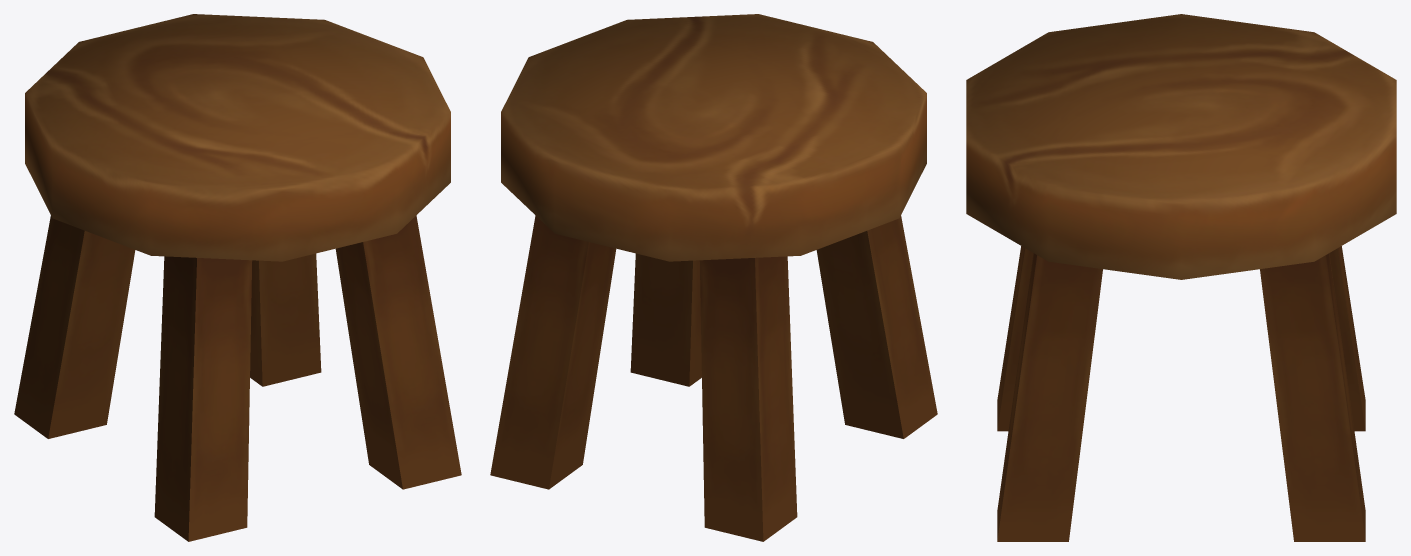
The model's file is Chair_rounded.fbx.
3 views of the same model, side by side, from view 1: azimuth 30°, elevation 25°; view 2: azimuth 150°, elevation 25°; view 3: azimuth 270°, elevation 25° (orthographic). The views are drawn at different scales.
Visible parts, largest first — view 1: polySurface356; view 2: polySurface356; view 3: polySurface356.
Part boxes in pixels (x1,y1,x2,y2): polySurface356: (14, 14, 461, 541); polySurface356: (490, 14, 937, 541); polySurface356: (966, 14, 1396, 541).
Size of the model in its own units: 0.8124 by 0.7167 by 0.7726.
